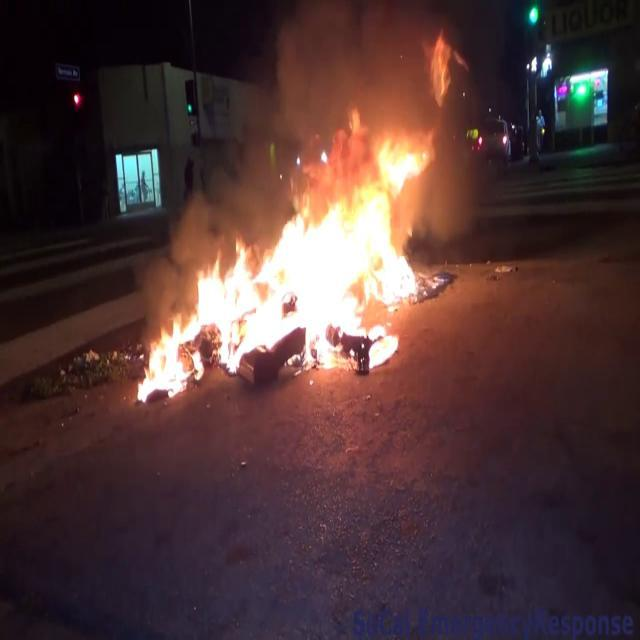Fire: (134, 121, 432, 378)
